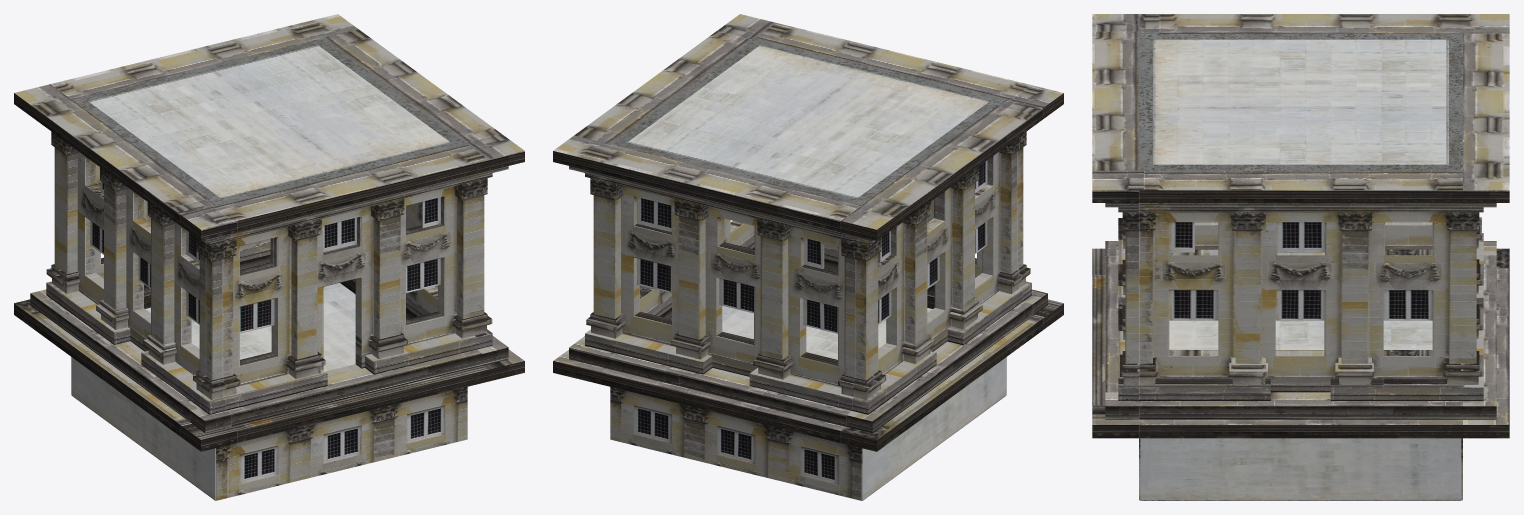
File: BagBuilding5_140.fbx
3 renders of one model, left to right at view 1: azimuth 30°, elevation 25°; view 2: azimuth 150°, elevation 25°; view 3: azimuth 270°, elevation 25°, orthographic. The views are drawn at different scales.
Visible parts, largest first — view 1: main140, roof140, box140, roofrim140; view 2: main140, roof140, box140, roofrim140; view 3: main140, roof140, box140, roofrim140.
Part boxes in pixels (box(x1,y1,x2,y2)): main140: box(14, 14, 524, 500); roof140: box(88, 45, 450, 198); box140: box(71, 283, 355, 500); roofrim140: box(71, 38, 466, 205); main140: box(553, 14, 1063, 500); roof140: box(627, 45, 989, 198); box140: box(722, 305, 1006, 500); roofrim140: box(611, 38, 1006, 205); main140: box(1092, 14, 1509, 500); roof140: box(1153, 39, 1448, 164); box140: box(1140, 320, 1461, 500); roofrim140: box(1139, 33, 1462, 170).
Size of the model in its own units: 18.94 by 16.53 by 18.94.
